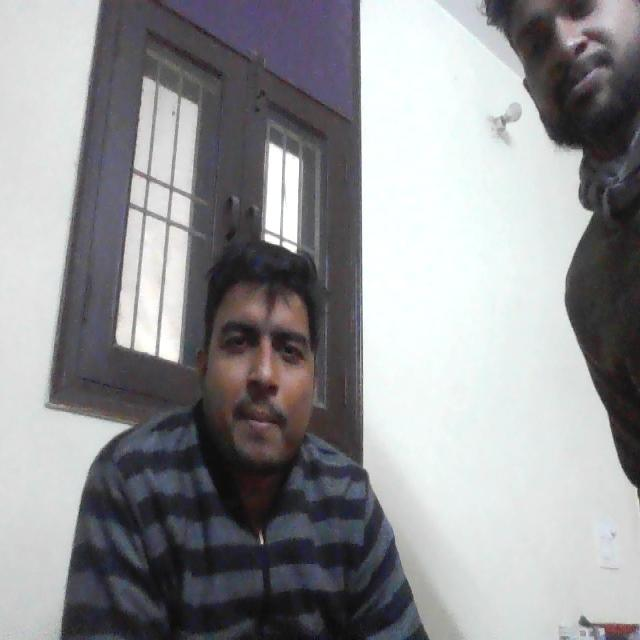real: (189, 210, 335, 486)
